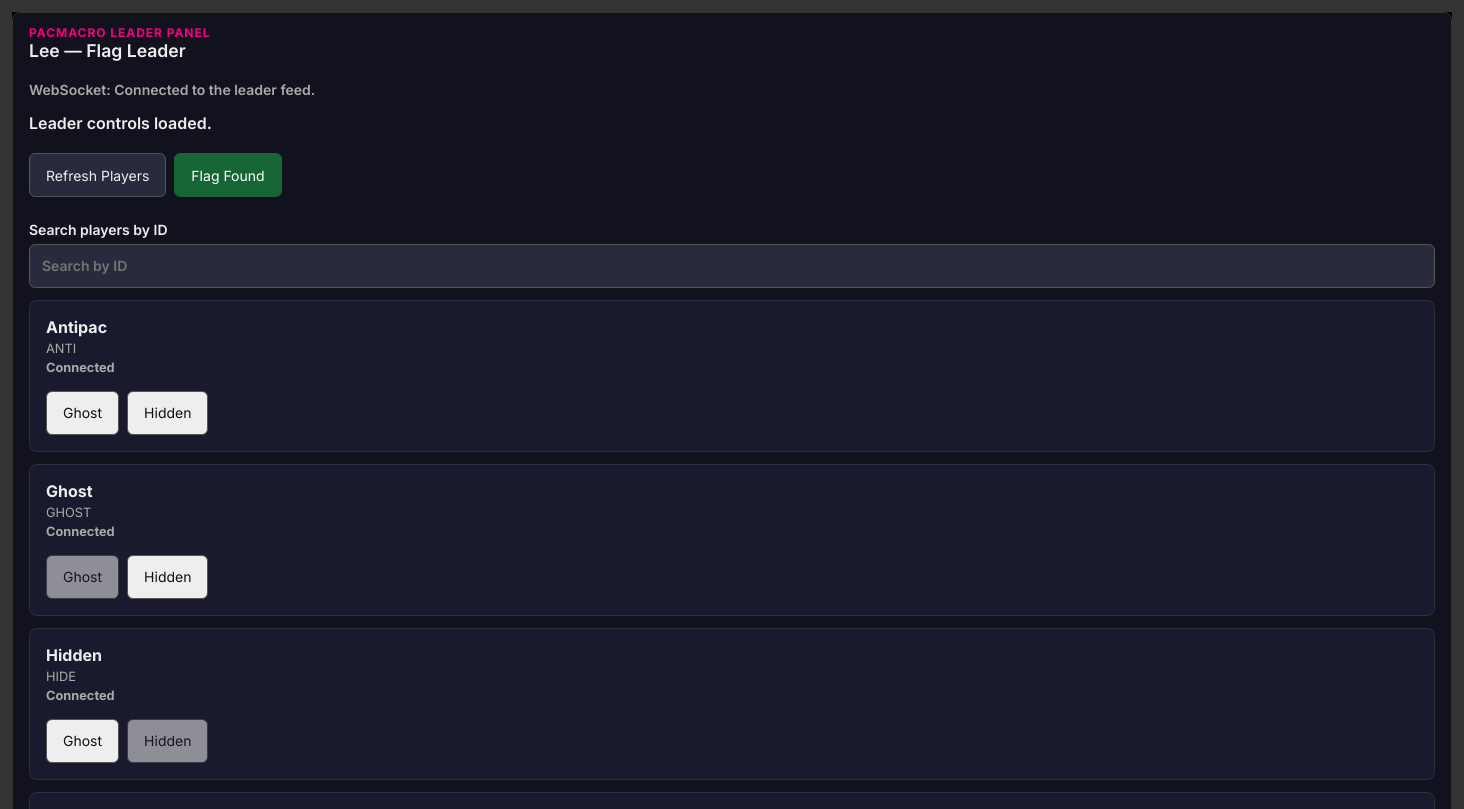
LeaderOverlayComponent › shows Flag Leader control as a pressed button and rolls it back on failure
Click the button with class "flag-control" at (228, 175), box [174,153,282,197]
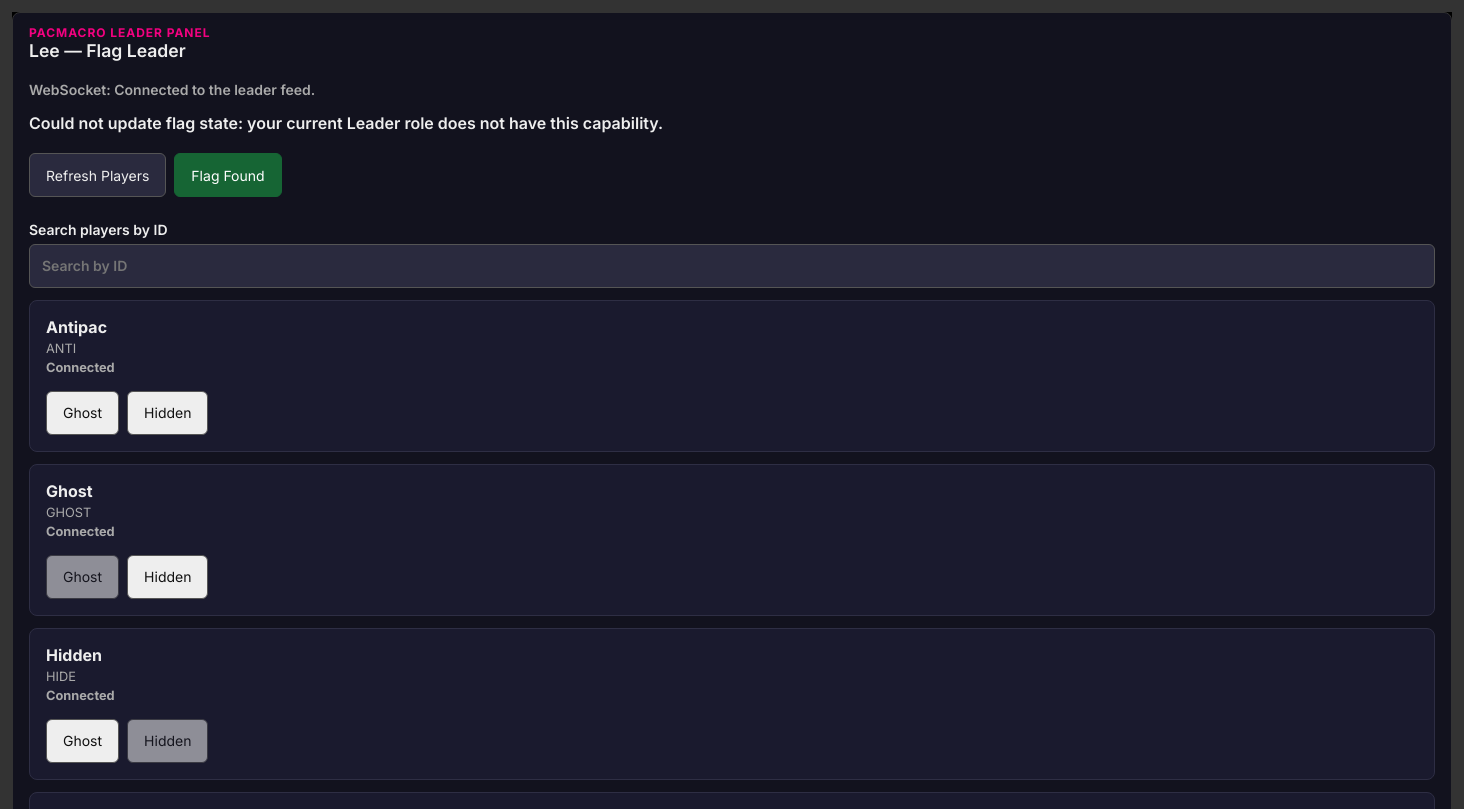
Check: the message with class "action-status" shows "does not have this capability", box [29,113,663,133]
